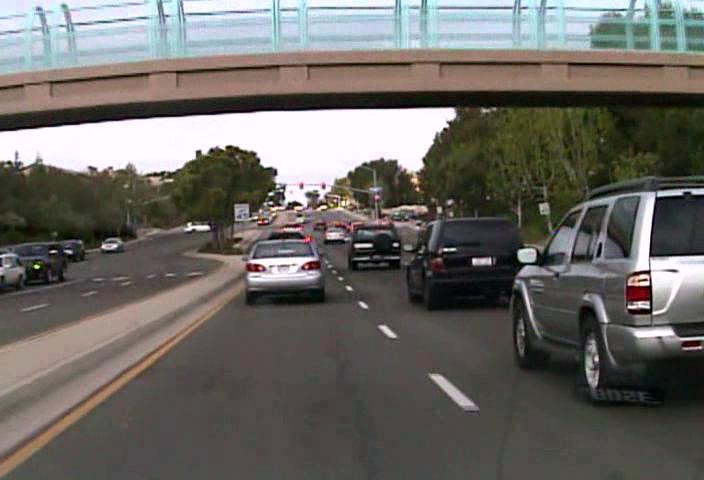speedLimit45: (233, 202, 249, 222)
